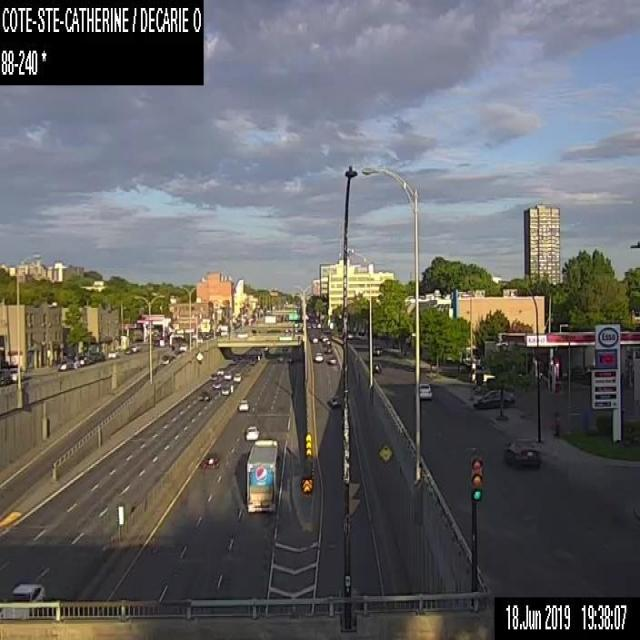vehicle: (246, 438, 278, 512), (503, 436, 542, 470), (6, 580, 44, 603), (472, 389, 515, 409), (326, 393, 343, 408), (202, 454, 218, 469), (418, 382, 432, 399), (57, 358, 72, 370), (246, 425, 258, 440), (10, 367, 22, 381), (197, 389, 211, 401), (0, 370, 10, 386), (238, 398, 248, 411), (372, 361, 382, 372), (372, 345, 382, 356), (326, 354, 336, 364), (221, 384, 230, 394), (160, 354, 169, 364), (314, 351, 323, 361), (212, 380, 221, 388), (96, 351, 104, 360), (224, 369, 232, 378), (107, 350, 116, 357), (233, 372, 240, 381), (72, 357, 78, 367), (179, 343, 186, 350), (130, 344, 137, 351), (211, 373, 217, 380), (217, 367, 223, 374), (327, 344, 332, 352), (322, 335, 328, 341), (124, 347, 131, 352), (276, 355, 283, 360), (325, 339, 330, 345), (312, 337, 317, 342), (282, 346, 287, 351), (287, 356, 292, 360)
